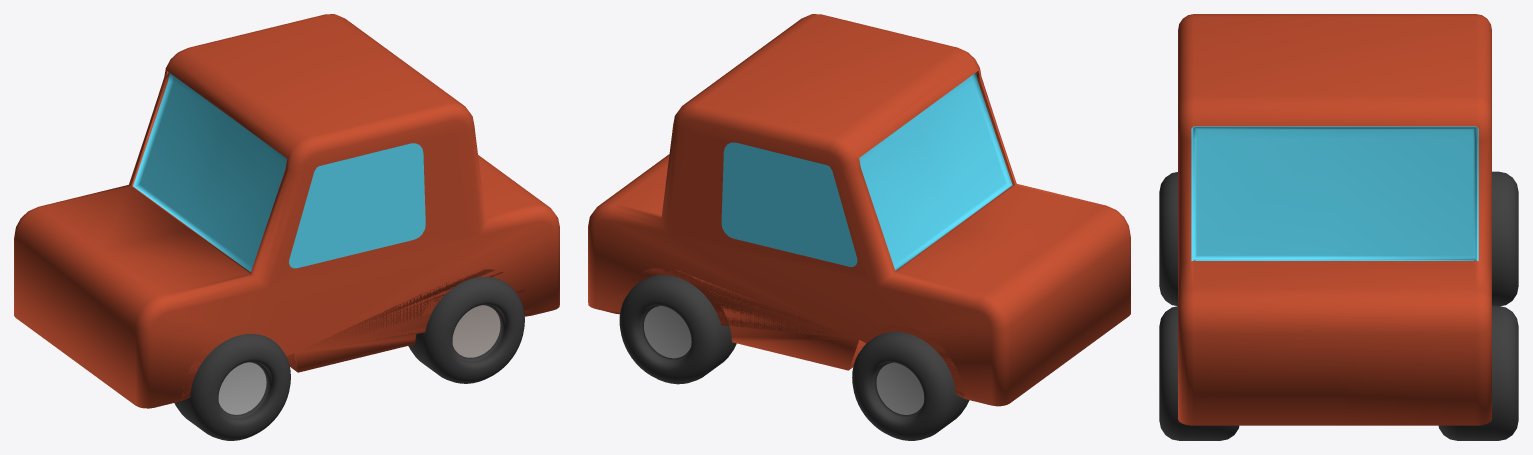
File: Car2.fbx
The picture shows the model from 3 angles, left to right: view 1: azimuth 30°, elevation 25°; view 2: azimuth 150°, elevation 25°; view 3: azimuth 270°, elevation 25°; orthographic projection. The views are drawn at different scales.
Visible parts, largest first — view 1: Car_Wheel, Cylinder_5, Cylinder_4; view 2: Car_Wheel, Cylinder_6, Cylinder_7; view 3: Car_Wheel, Cylinder_6, Cylinder_7, Cylinder_5, Cylinder_4.
Part boxes in pixels (x1,y1,x2,y2): Car_Wheel: (14,14,559,408); Cylinder_5: (408,276,524,383); Cylinder_4: (174,333,290,440); Car_Wheel: (588,14,1130,406); Cylinder_6: (619,275,736,384); Cylinder_7: (852,331,969,440); Car_Wheel: (1178,14,1491,425); Cylinder_6: (1438,306,1518,440); Cylinder_7: (1492,171,1518,306); Cylinder_5: (1159,306,1239,440); Cylinder_4: (1159,172,1177,306).
Bounding box in the file's own units: 413 × 260 × 258.
